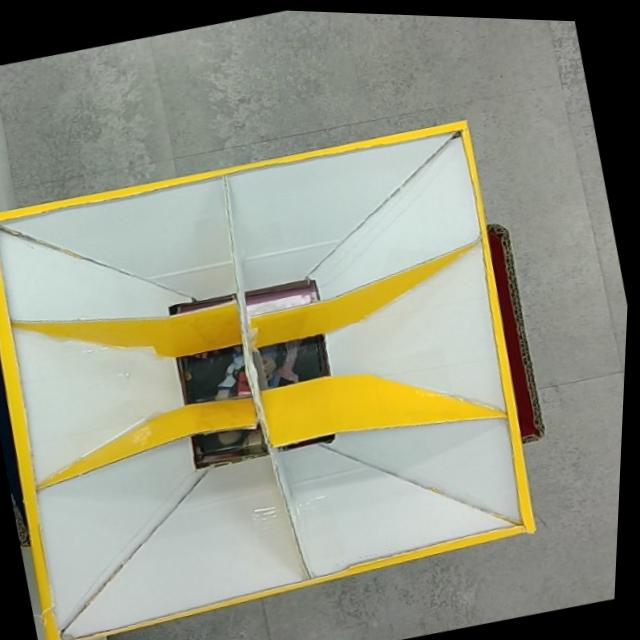box: (0, 97, 588, 640)
